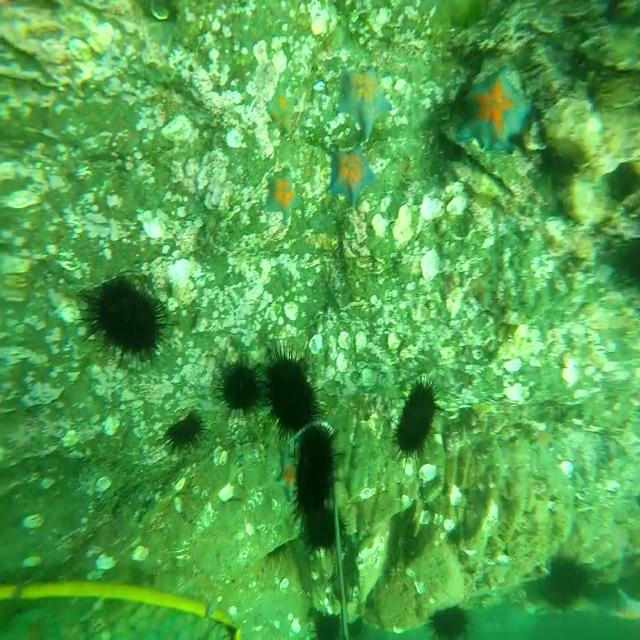echinus: (80, 272, 172, 364), (260, 338, 321, 431), (292, 420, 340, 509), (397, 374, 438, 464), (547, 542, 590, 608), (216, 357, 262, 417), (301, 502, 350, 558), (167, 408, 208, 456), (428, 599, 468, 640), (314, 606, 346, 640)
starfish: (466, 69, 532, 153), (339, 61, 393, 142), (328, 142, 375, 205), (264, 165, 304, 227), (264, 79, 298, 137)
